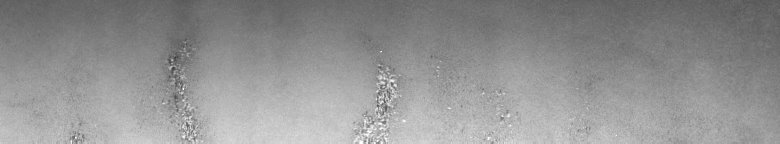hc: (160, 39, 203, 136)
